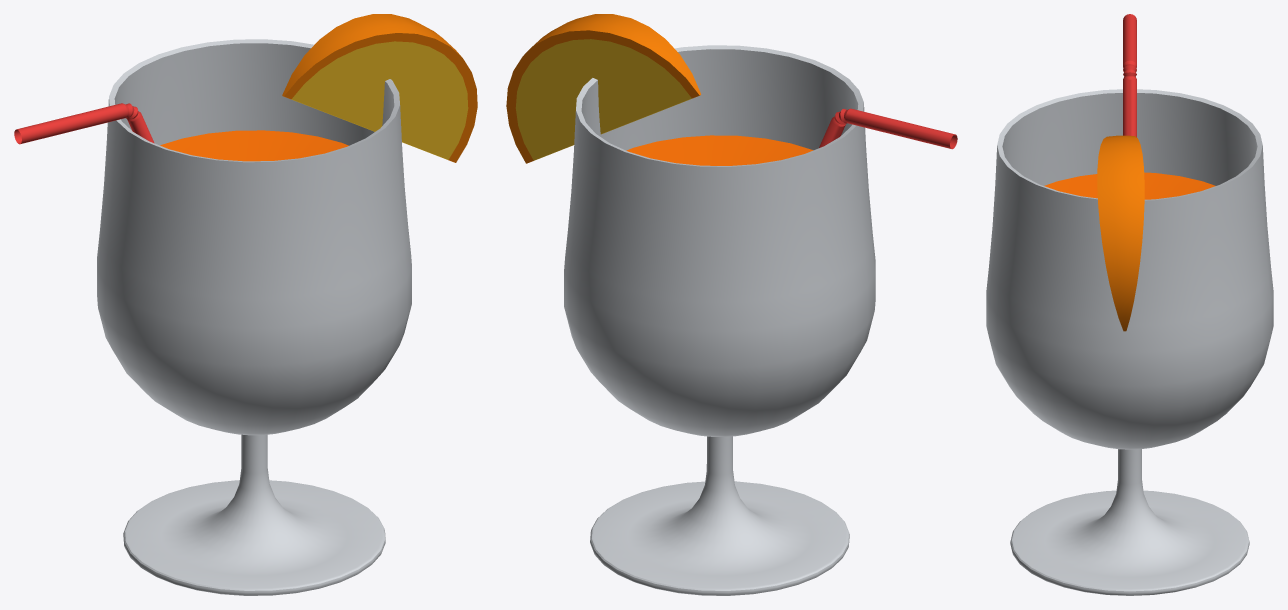
Rendered from tropical_drink.glb.
The picture shows the model from 3 angles, left to right: view 1: azimuth 30°, elevation 25°; view 2: azimuth 150°, elevation 25°; view 3: azimuth 270°, elevation 25°; orthographic projection. The views are drawn at different scales.
Visible parts, largest first — view 1: Circle.2279; view 2: Circle.2279; view 3: Circle.2279.
Boxes of the visible parts, bbox=[...] form: Circle.2279: bbox=[14, 14, 477, 595]; Circle.2279: bbox=[506, 14, 957, 595]; Circle.2279: bbox=[986, 14, 1273, 595].
Size of the model in its own units: 2.04 by 2.14 by 1.24.
2 materials, 1 textured.
